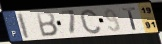7: (60, 10, 77, 37)
9: (104, 8, 121, 33)
B: (36, 11, 60, 38)
C: (78, 8, 103, 35)
I: (16, 12, 31, 40)
T: (121, 6, 139, 31)
